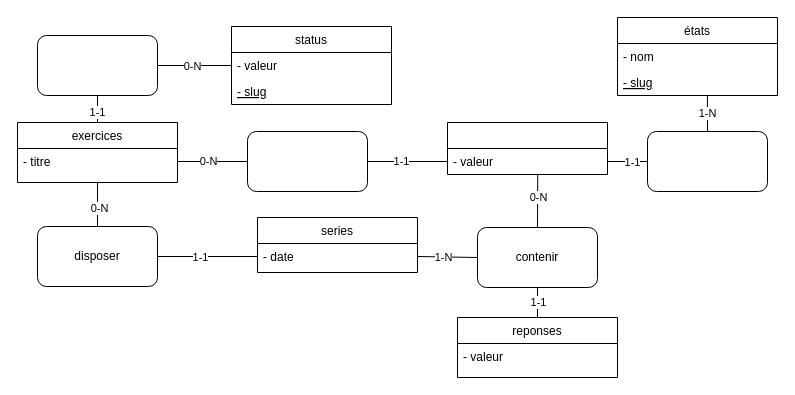
Image size: 795x395. Some labels were removed from this diagram. Each missing label, with the box of its shape:
avoir: (36, 34, 158, 96)
définir: (646, 130, 768, 192)
inclure: (246, 130, 368, 192)
questions: (446, 122, 608, 174)
